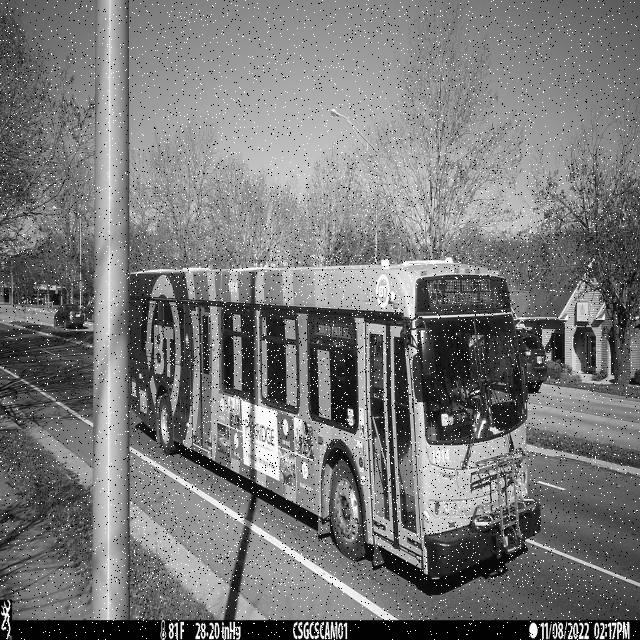Bus: (127, 255, 542, 585)
